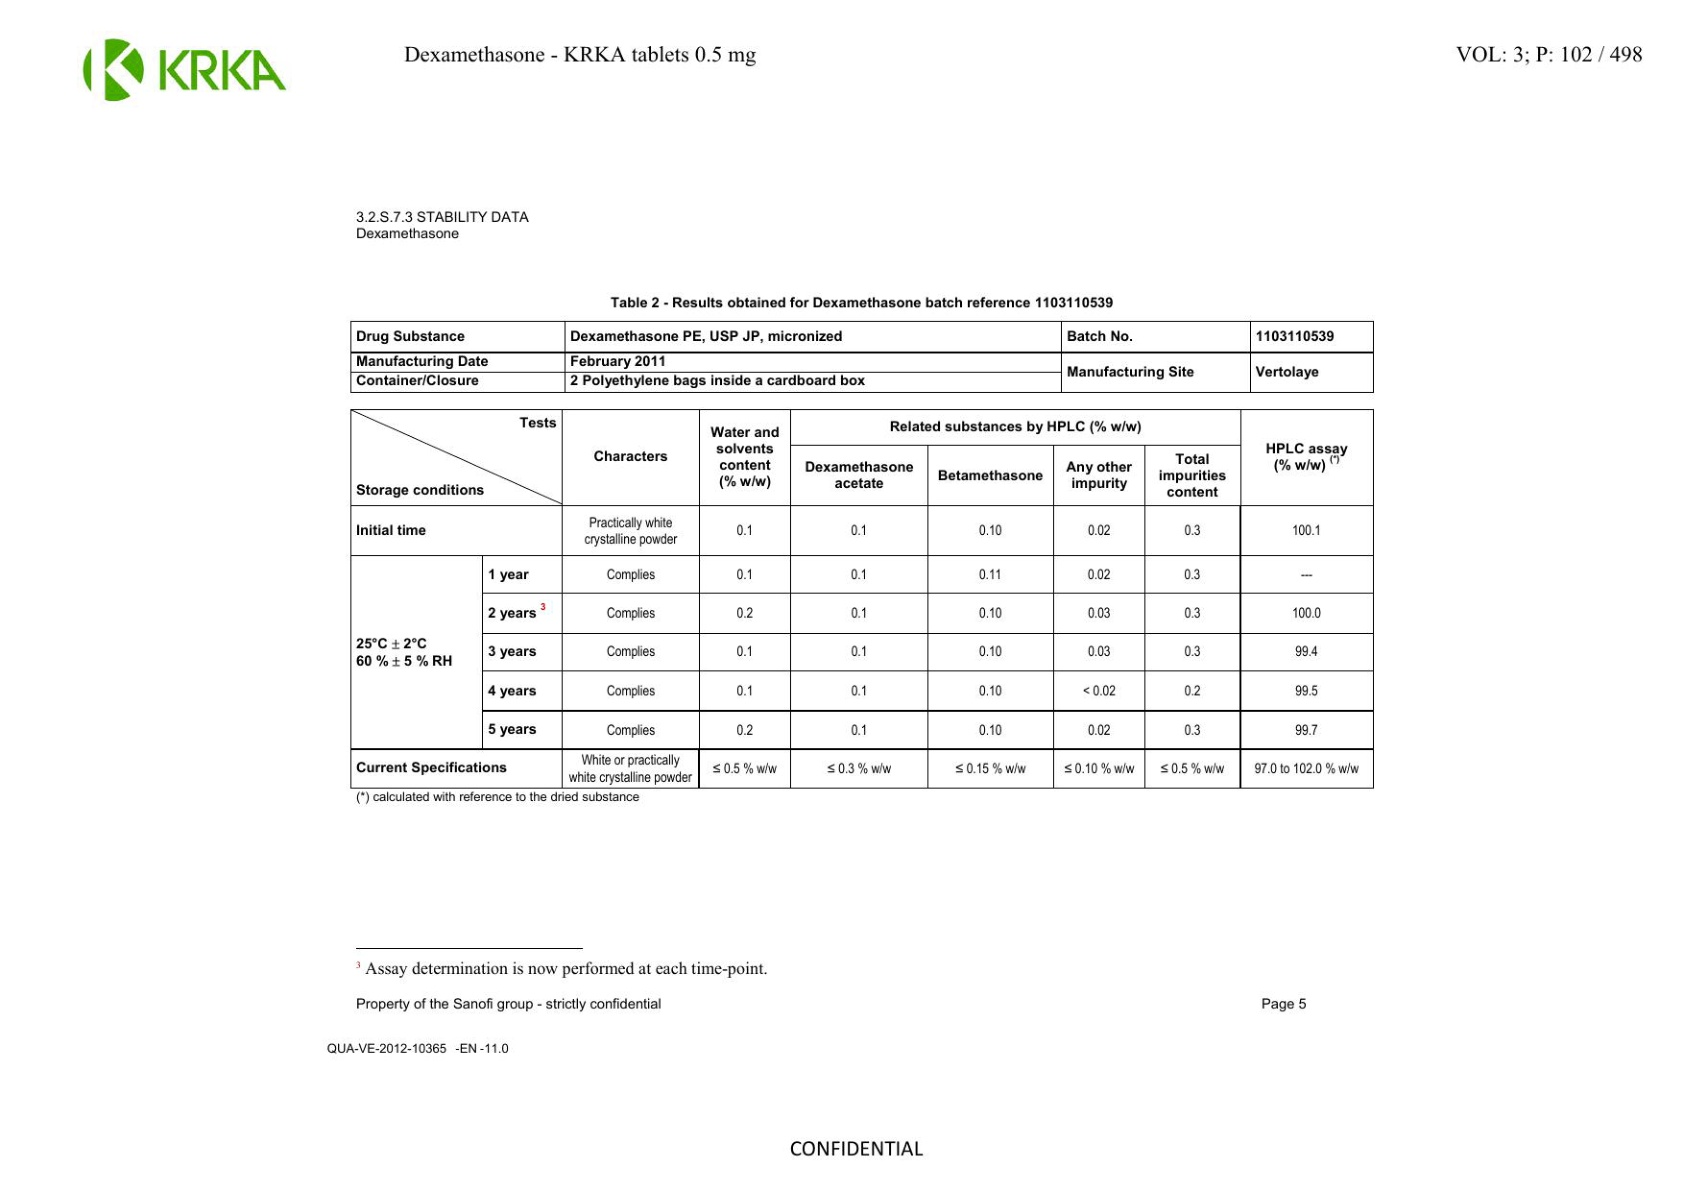merged_cells: (349, 408, 1375, 790), (348, 320, 1375, 393)
